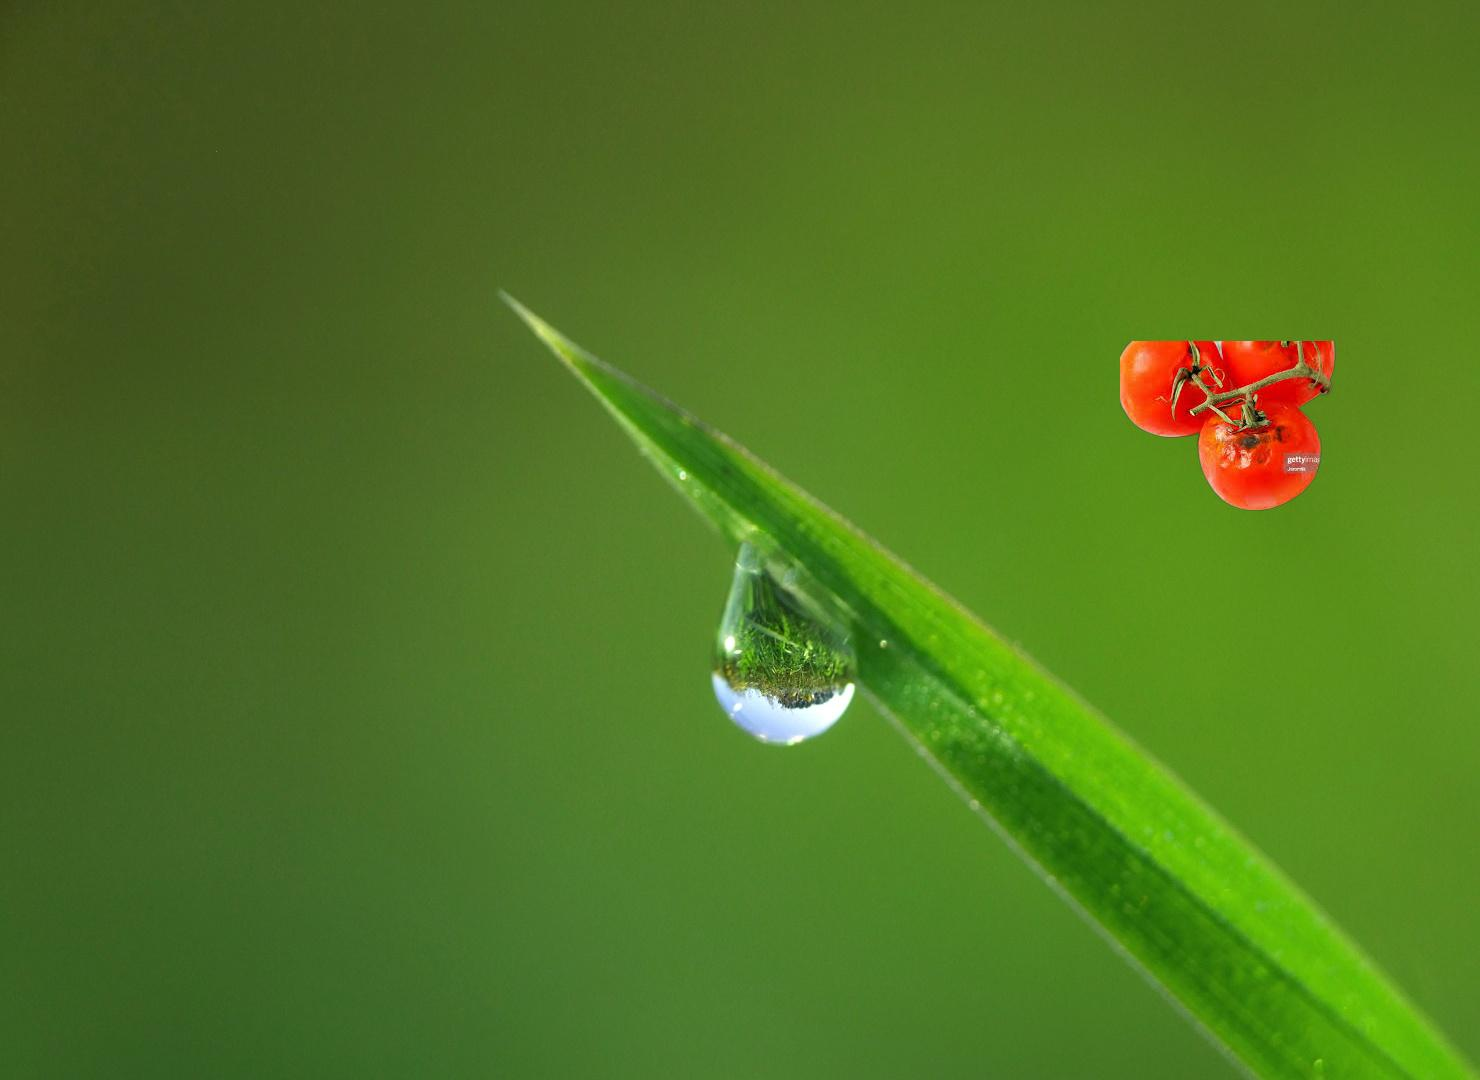biological: (1120, 341, 1338, 512)
